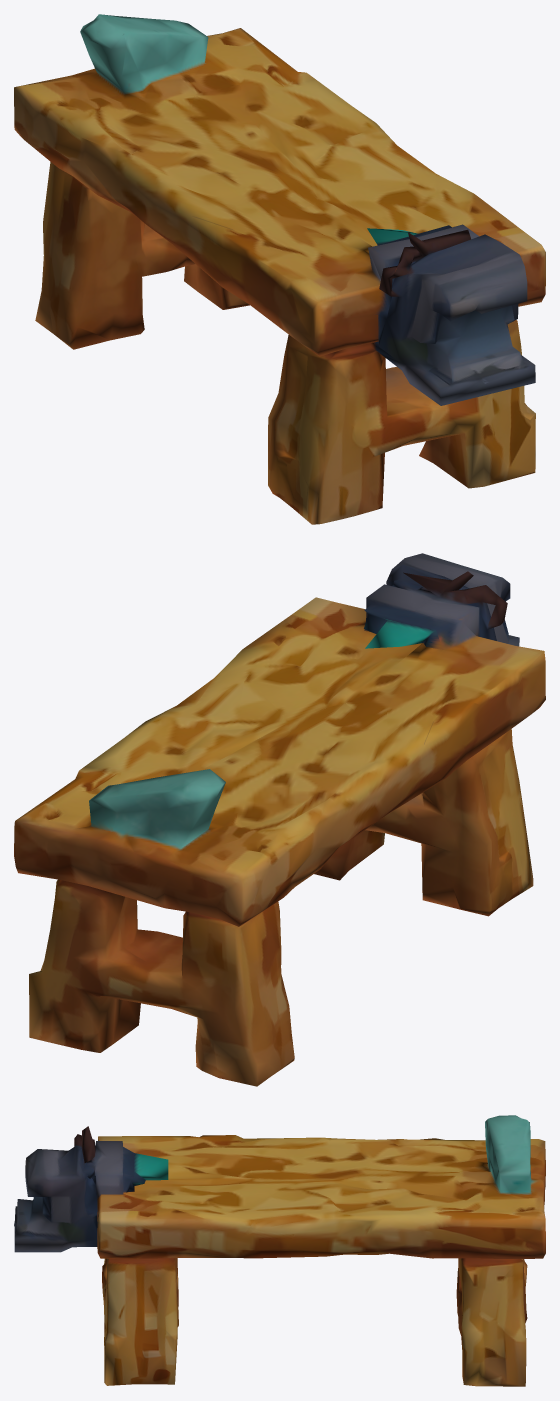
Rendered from textures.glb.
3 renders of one model, top to bottom at view 1: azimuth 30°, elevation 25°; view 2: azimuth 150°, elevation 25°; view 3: azimuth 270°, elevation 25°, orthographic. The views are drawn at different scales.
Visible parts, largest first — view 1: tripo_node_f5615493-cea3-4af2-95ea-a19bb6e43ccb; view 2: tripo_node_f5615493-cea3-4af2-95ea-a19bb6e43ccb; view 3: tripo_node_f5615493-cea3-4af2-95ea-a19bb6e43ccb.
Boxes of the visible parts, x1=… form: tripo_node_f5615493-cea3-4af2-95ea-a19bb6e43ccb: x1=14, y1=14, x2=545, y2=524; tripo_node_f5615493-cea3-4af2-95ea-a19bb6e43ccb: x1=14, y1=553, x2=545, y2=1086; tripo_node_f5615493-cea3-4af2-95ea-a19bb6e43ccb: x1=14, y1=1115, x2=545, y2=1386.
Bounding box in the file's own units: 0.3759 × 0.4418 × 1.
Materials: 1 (1 with a texture image).
